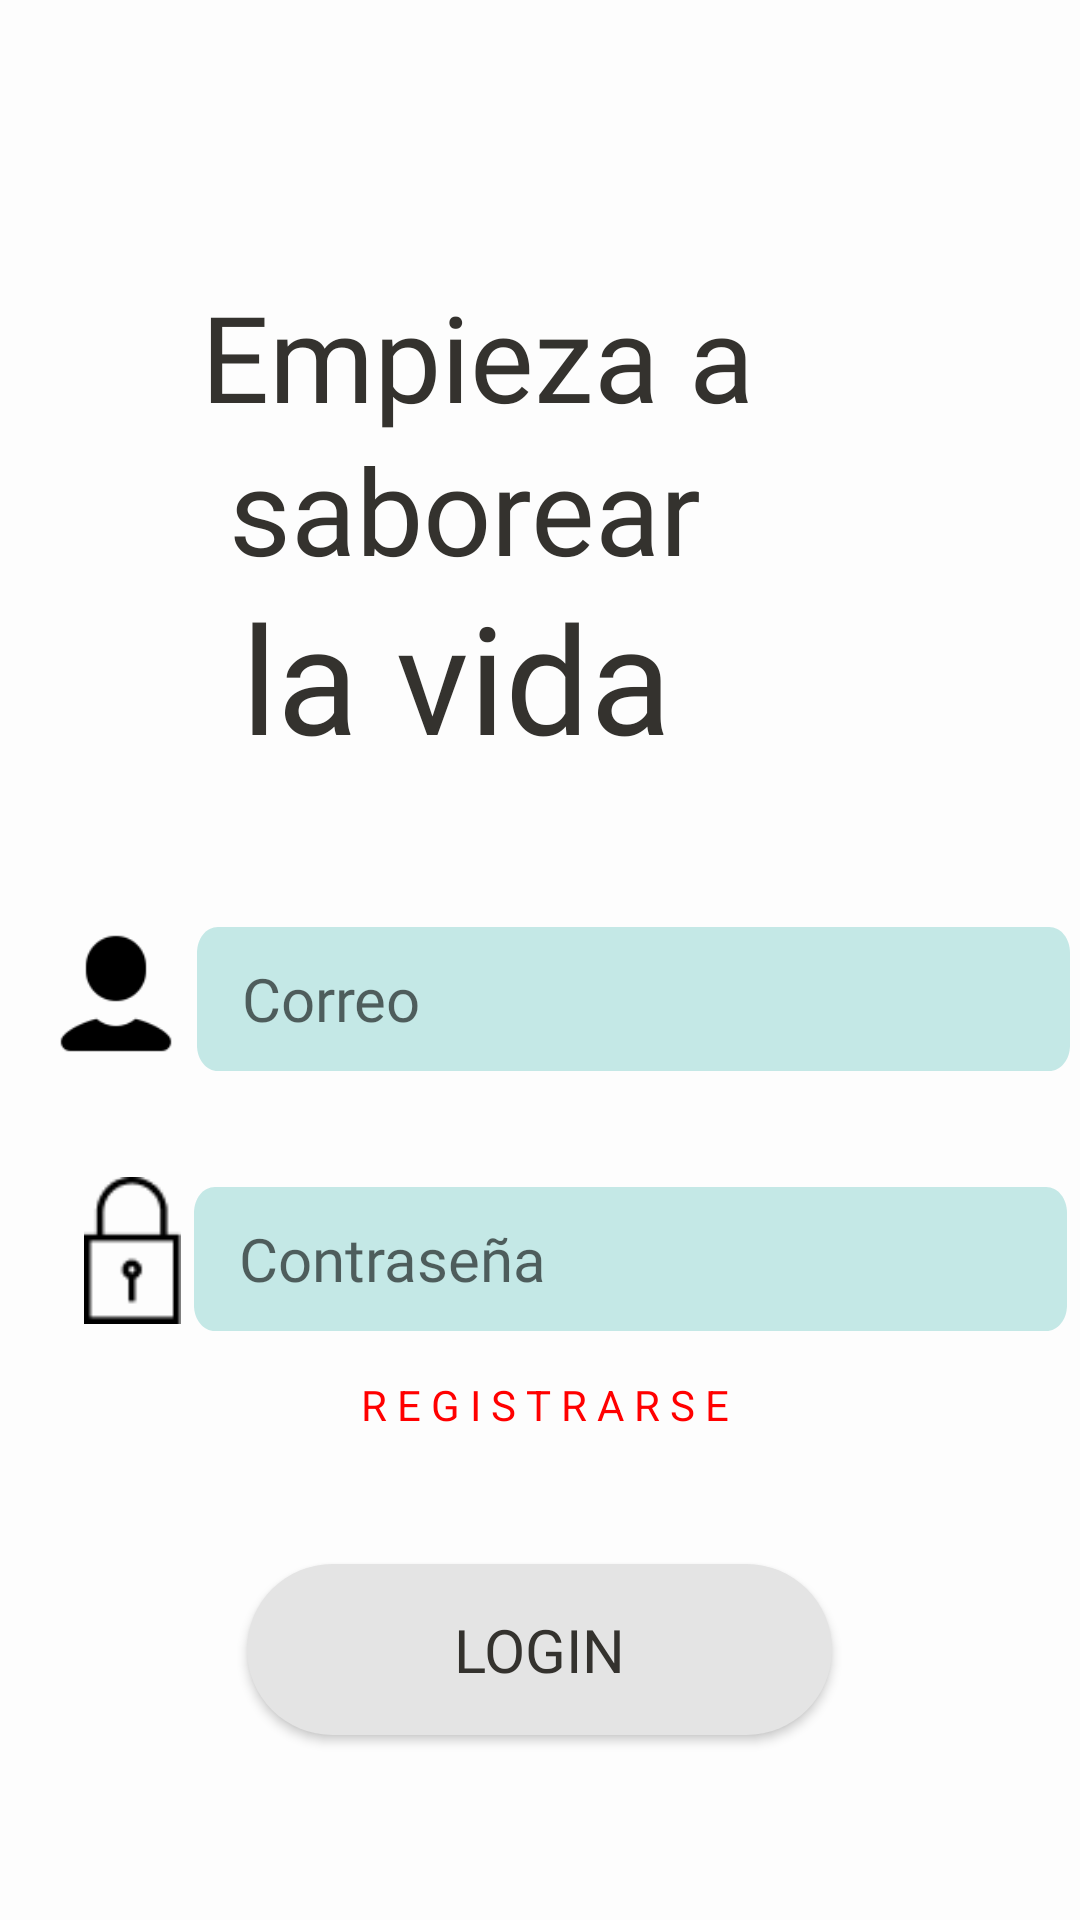

Where icons sit on this 1080x1920 app screen, as (x1, y1, x2, y2):
password: (84, 1177, 181, 1324)
user: (60, 935, 172, 1052)
